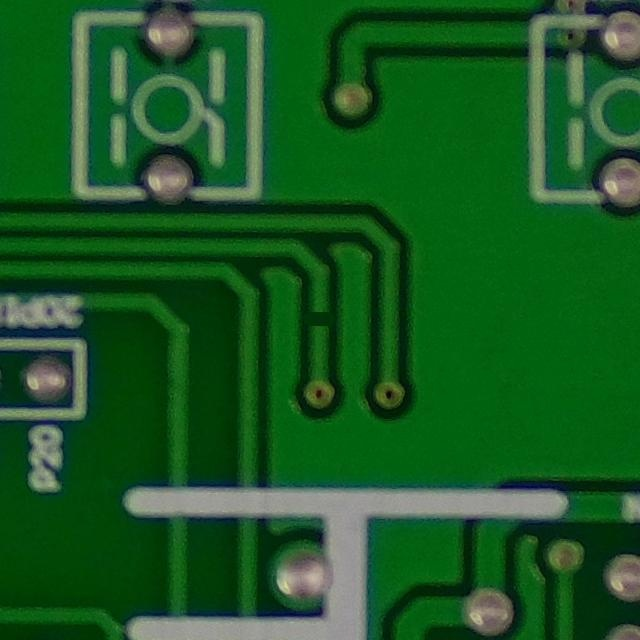open_circuit: (306, 302, 335, 339)
